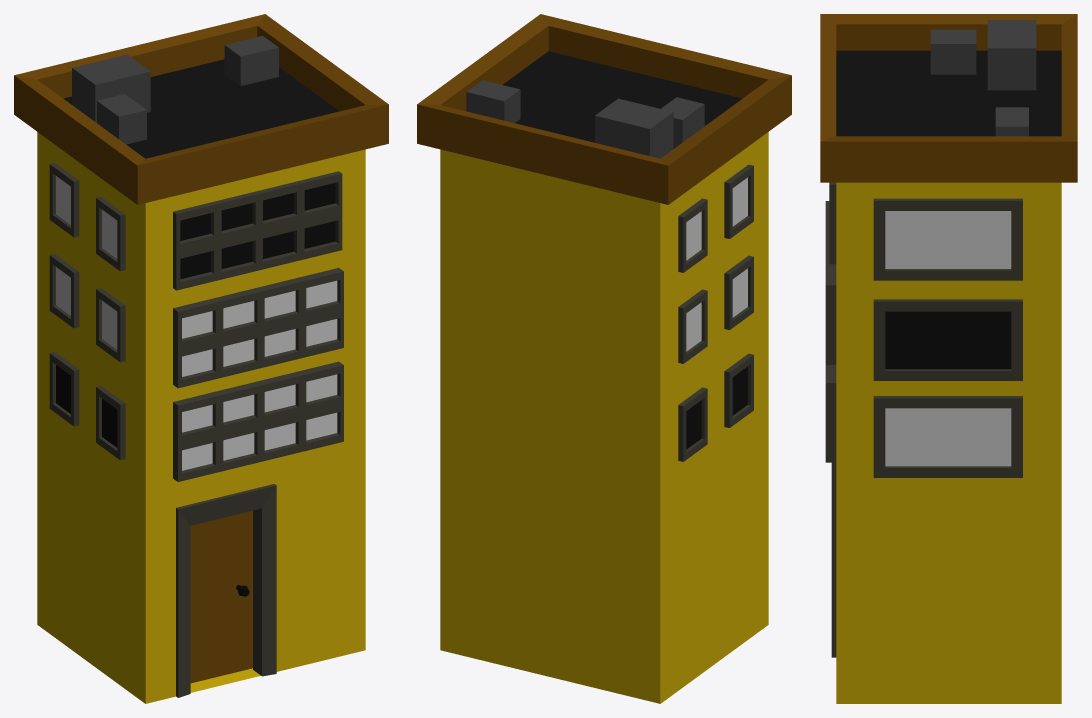
File: building3.obj
3 renders of one model, left to right at view 1: azimuth 30°, elevation 25°; view 2: azimuth 150°, elevation 25°; view 3: azimuth 270°, elevation 25°, orthographic. The views are drawn at different scales.
Parts seen in each view (by area): view 1: building3; view 2: building3; view 3: building3.
Part boxes in pixels (<box>): building3: <box>14,14,388,703</box>; building3: <box>417,14,791,703</box>; building3: <box>820,14,1077,703</box>.
Size of the model in its own units: 7.5 by 15.99 by 6.39.
